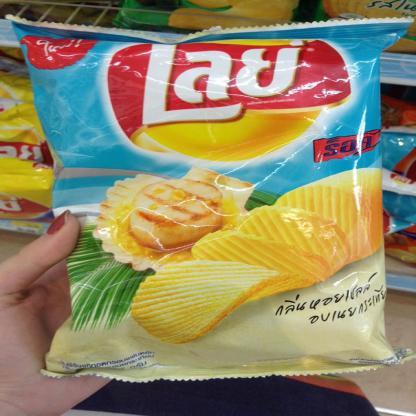potatochip: (0, 6, 415, 388)
